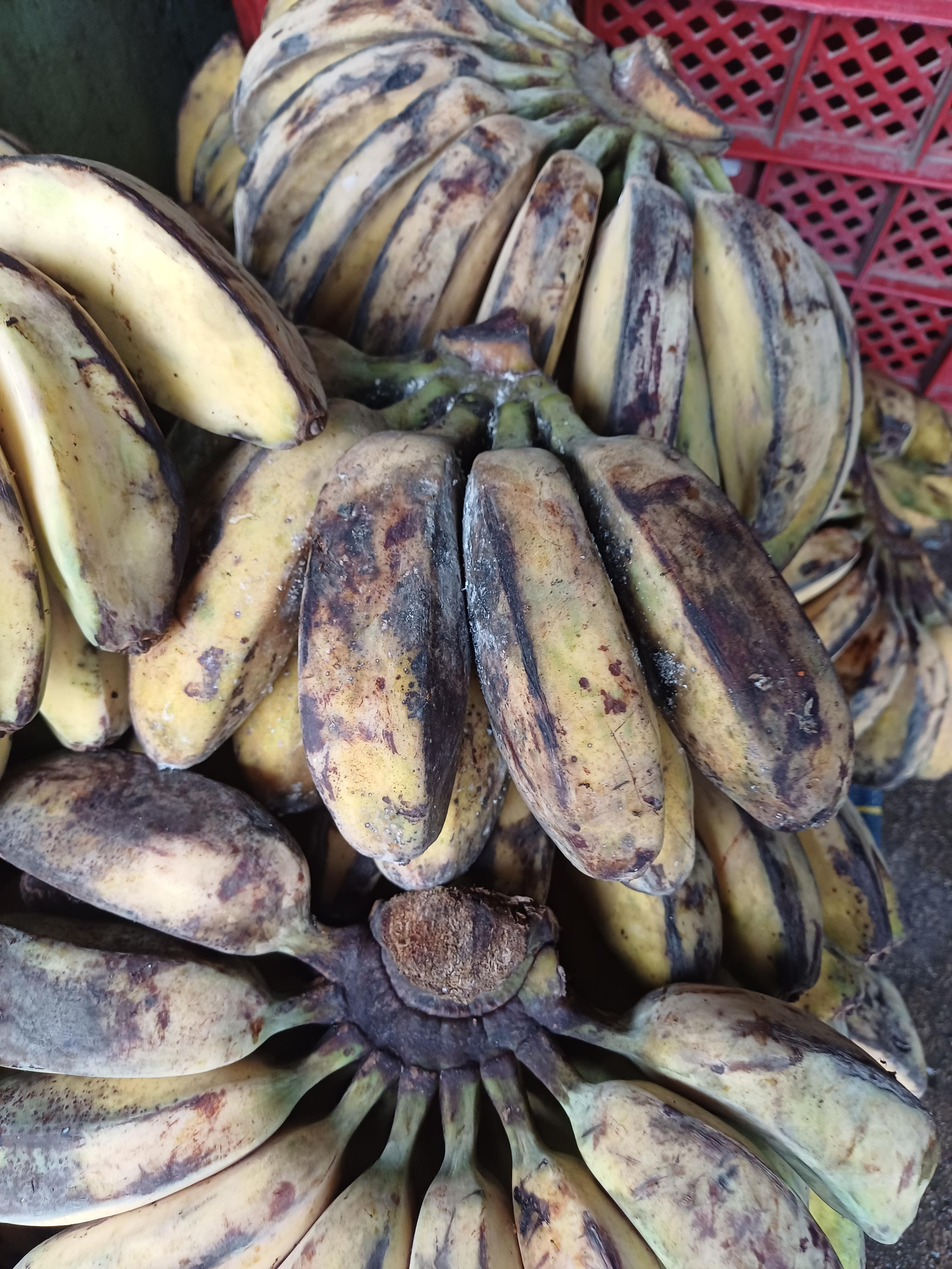ripe: (194, 0, 862, 567)
underripe: (0, 750, 938, 1269), (129, 402, 852, 894)
